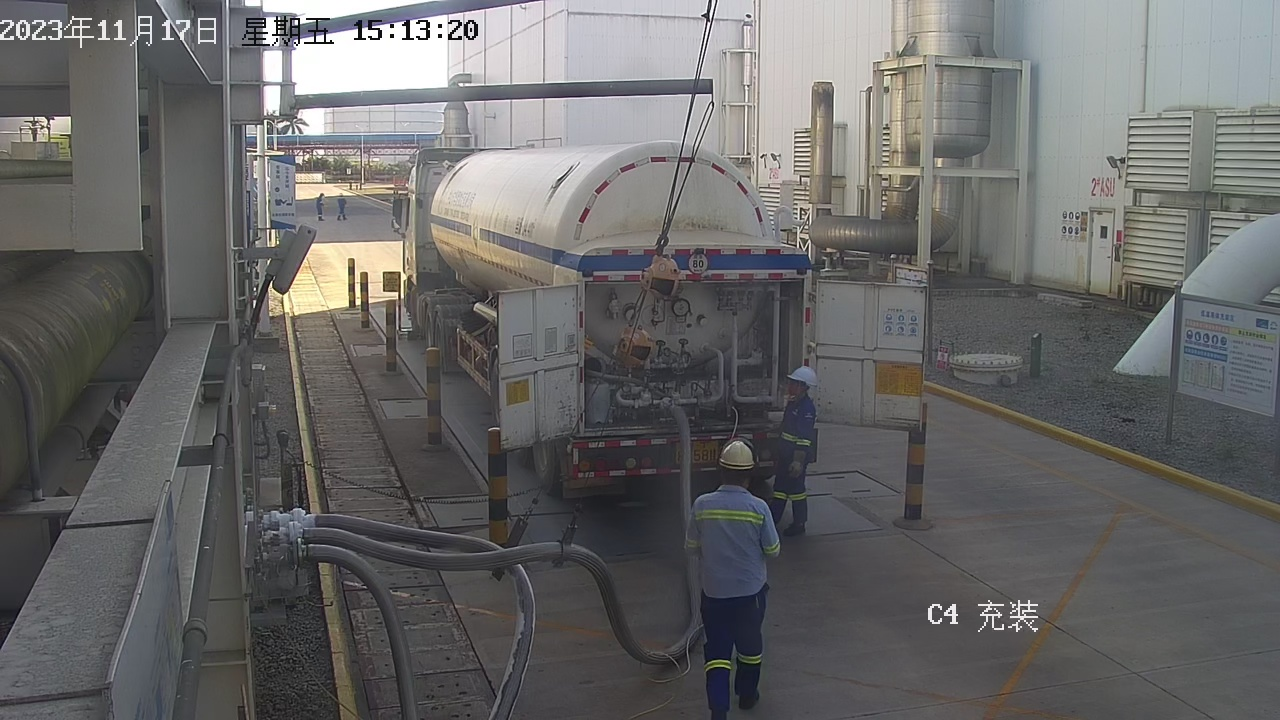Head_with_Helmet: (688, 429, 767, 494), (771, 360, 823, 407), (316, 191, 328, 202), (335, 192, 348, 201)
Uniform: (667, 474, 813, 707), (755, 390, 849, 544), (311, 197, 331, 223), (333, 198, 353, 221)
